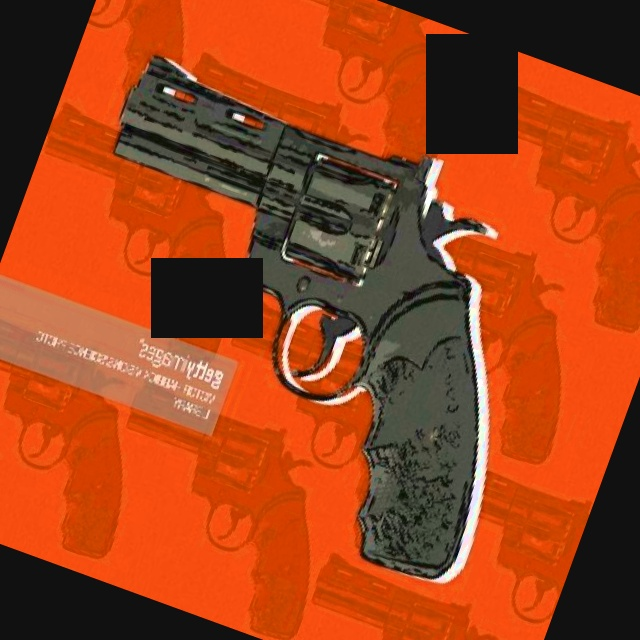gun: (6, 47, 595, 596)
